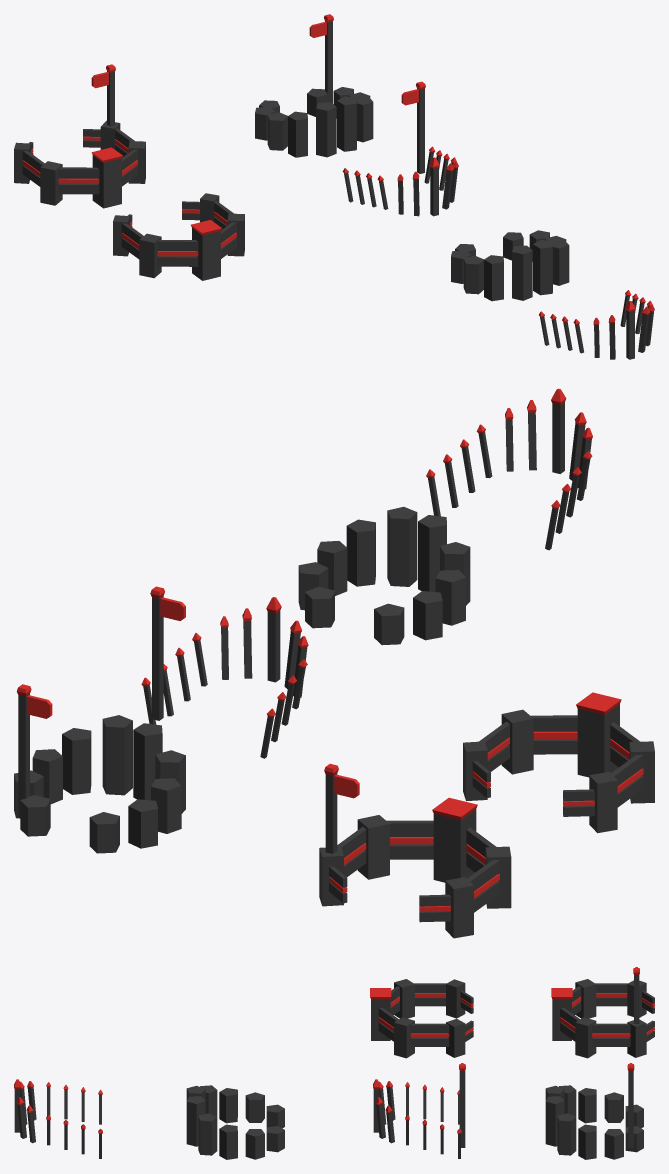
File: Enemy camps.fbx
3 renders of one model, top to bottom at view 1: azimuth 30°, elevation 25°; view 2: azimuth 150°, elevation 25°; view 3: azimuth 270°, elevation 25°, orthographic. The views are drawn at different scales.
Visible parts, largest first — view 1: Cube.004, Cube.003, Cube.005, Cube.001, Cube.002, Cube; view 2: Cube.003, Cube.004, Cube.001, Cube.005, Cube.002, Cube; view 3: Cube.004, Cube.005, Cube.003, Cube.001, Cube.002, Cube.
Part boxes in pixels (x1,y1,x2,y2): Cube.004: [14, 64, 145, 208]; Cube.003: [255, 14, 373, 157]; Cube.005: [113, 193, 244, 280]; Cube.001: [451, 230, 569, 301]; Cube.002: [342, 81, 458, 216]; Cube: [539, 290, 654, 359]; Cube.003: [14, 684, 185, 853]; Cube.004: [319, 763, 511, 938]; Cube.001: [298, 506, 470, 645]; Cube.005: [463, 692, 654, 833]; Cube.002: [141, 586, 308, 758]; Cube: [426, 388, 592, 550]; Cube.004: [551, 967, 654, 1058]; Cube.005: [370, 979, 473, 1058]; Cube.003: [545, 1063, 643, 1159]; Cube.001: [186, 1085, 284, 1159]; Cube.002: [373, 1063, 465, 1158]; Cube: [14, 1079, 102, 1158].
Size of the model in its own units: 13.7 by 3.97 by 25.26.
